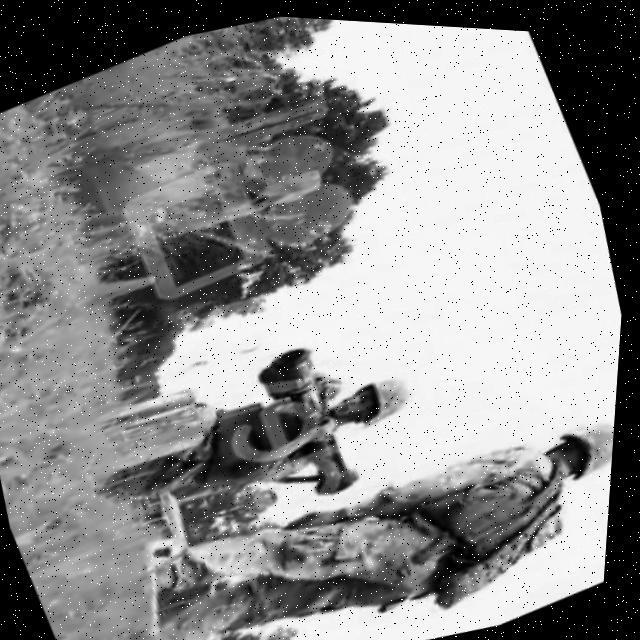rocket: (251, 330, 381, 508)
